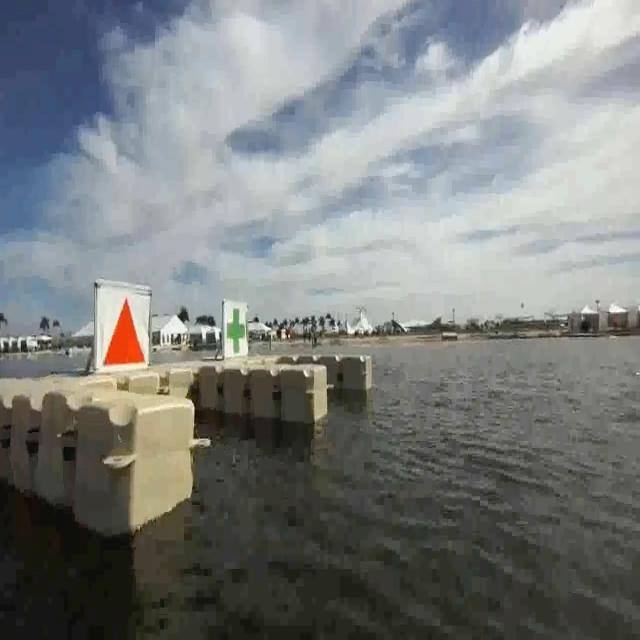blue-cross: (222, 298, 248, 360)
red-dot: (94, 290, 150, 376)
